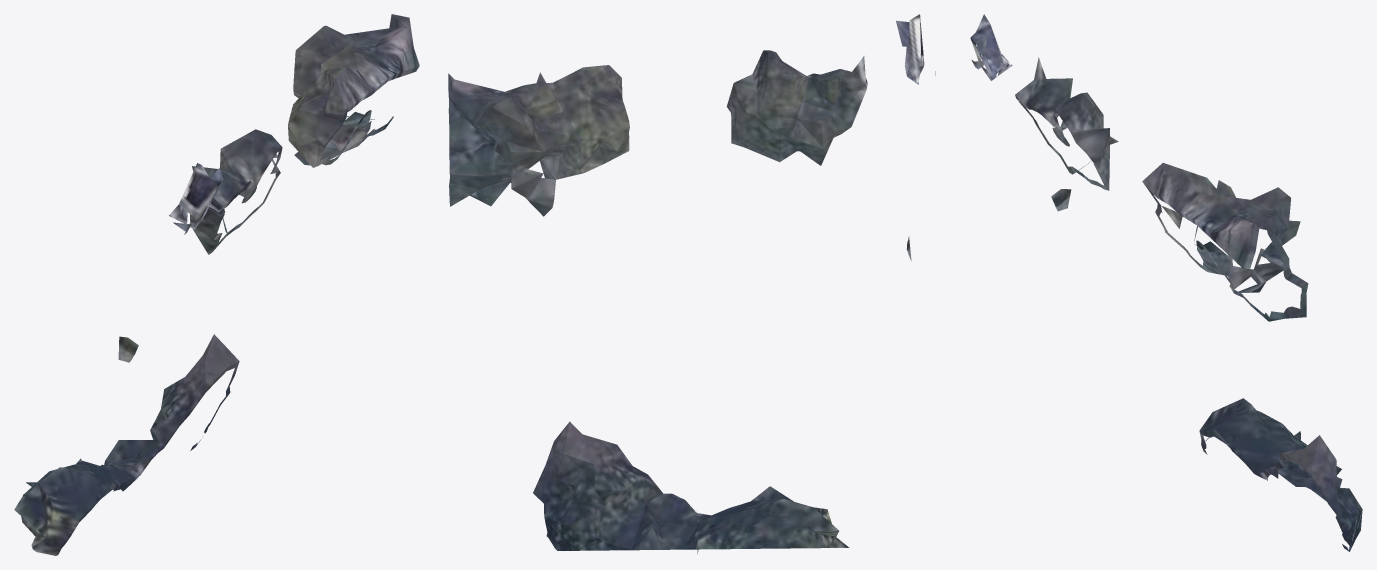
The picture shows the model from 3 angles, left to right: view 1: azimuth 30°, elevation 25°; view 2: azimuth 150°, elevation 25°; view 3: azimuth 270°, elevation 25°; orthographic projection. The views are drawn at different scales.
Bounding box in the file's own units: 31.9 × 35.32 × 27.77.
1 material, 1 textured.
